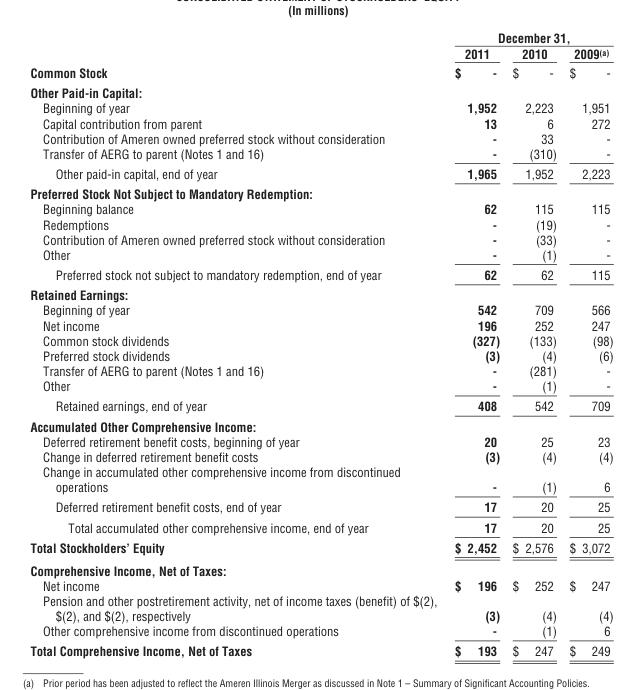table: (29, 29, 612, 658)
table column: (29, 29, 445, 658), (445, 29, 505, 658), (505, 29, 562, 658), (562, 29, 612, 658)
table column header: (29, 29, 612, 62)
table projected row header: (29, 558, 612, 577), (29, 82, 612, 100), (29, 183, 612, 201), (29, 284, 612, 302), (29, 415, 612, 433)
table row: (29, 463, 612, 496), (29, 592, 612, 622), (29, 516, 612, 537), (29, 537, 612, 558), (29, 62, 612, 82), (29, 163, 612, 183), (29, 264, 612, 284), (29, 395, 612, 415), (29, 496, 612, 516), (29, 558, 612, 577), (29, 82, 612, 100), (29, 145, 612, 163), (29, 183, 612, 201), (29, 246, 612, 264), (29, 284, 612, 302), (29, 377, 612, 395), (29, 415, 612, 433), (29, 622, 612, 640), (29, 640, 612, 658), (29, 45, 612, 62), (29, 29, 612, 45), (29, 100, 612, 115), (29, 115, 612, 130), (29, 130, 612, 145), (29, 201, 612, 216), (29, 216, 612, 231), (29, 231, 612, 246), (29, 302, 612, 317), (29, 317, 612, 332), (29, 332, 612, 347), (29, 347, 612, 362), (29, 362, 612, 377), (29, 433, 612, 448), (29, 448, 612, 463), (29, 577, 612, 592)
table spanning cell: (445, 29, 612, 45)
